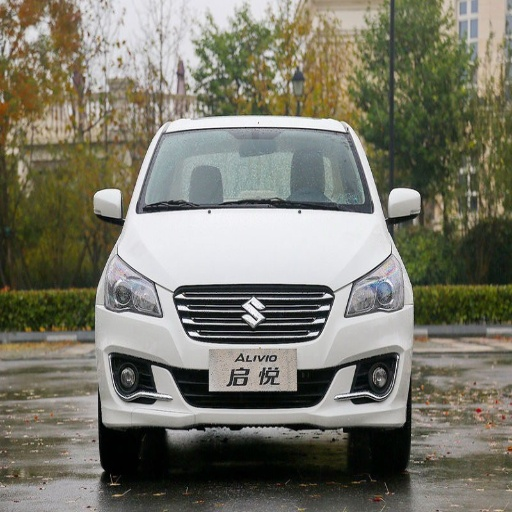front_bumper: (97, 282, 412, 427)
front_right_light: (101, 260, 162, 316)
hood: (119, 209, 391, 288)
left_mirror: (387, 188, 421, 224)
